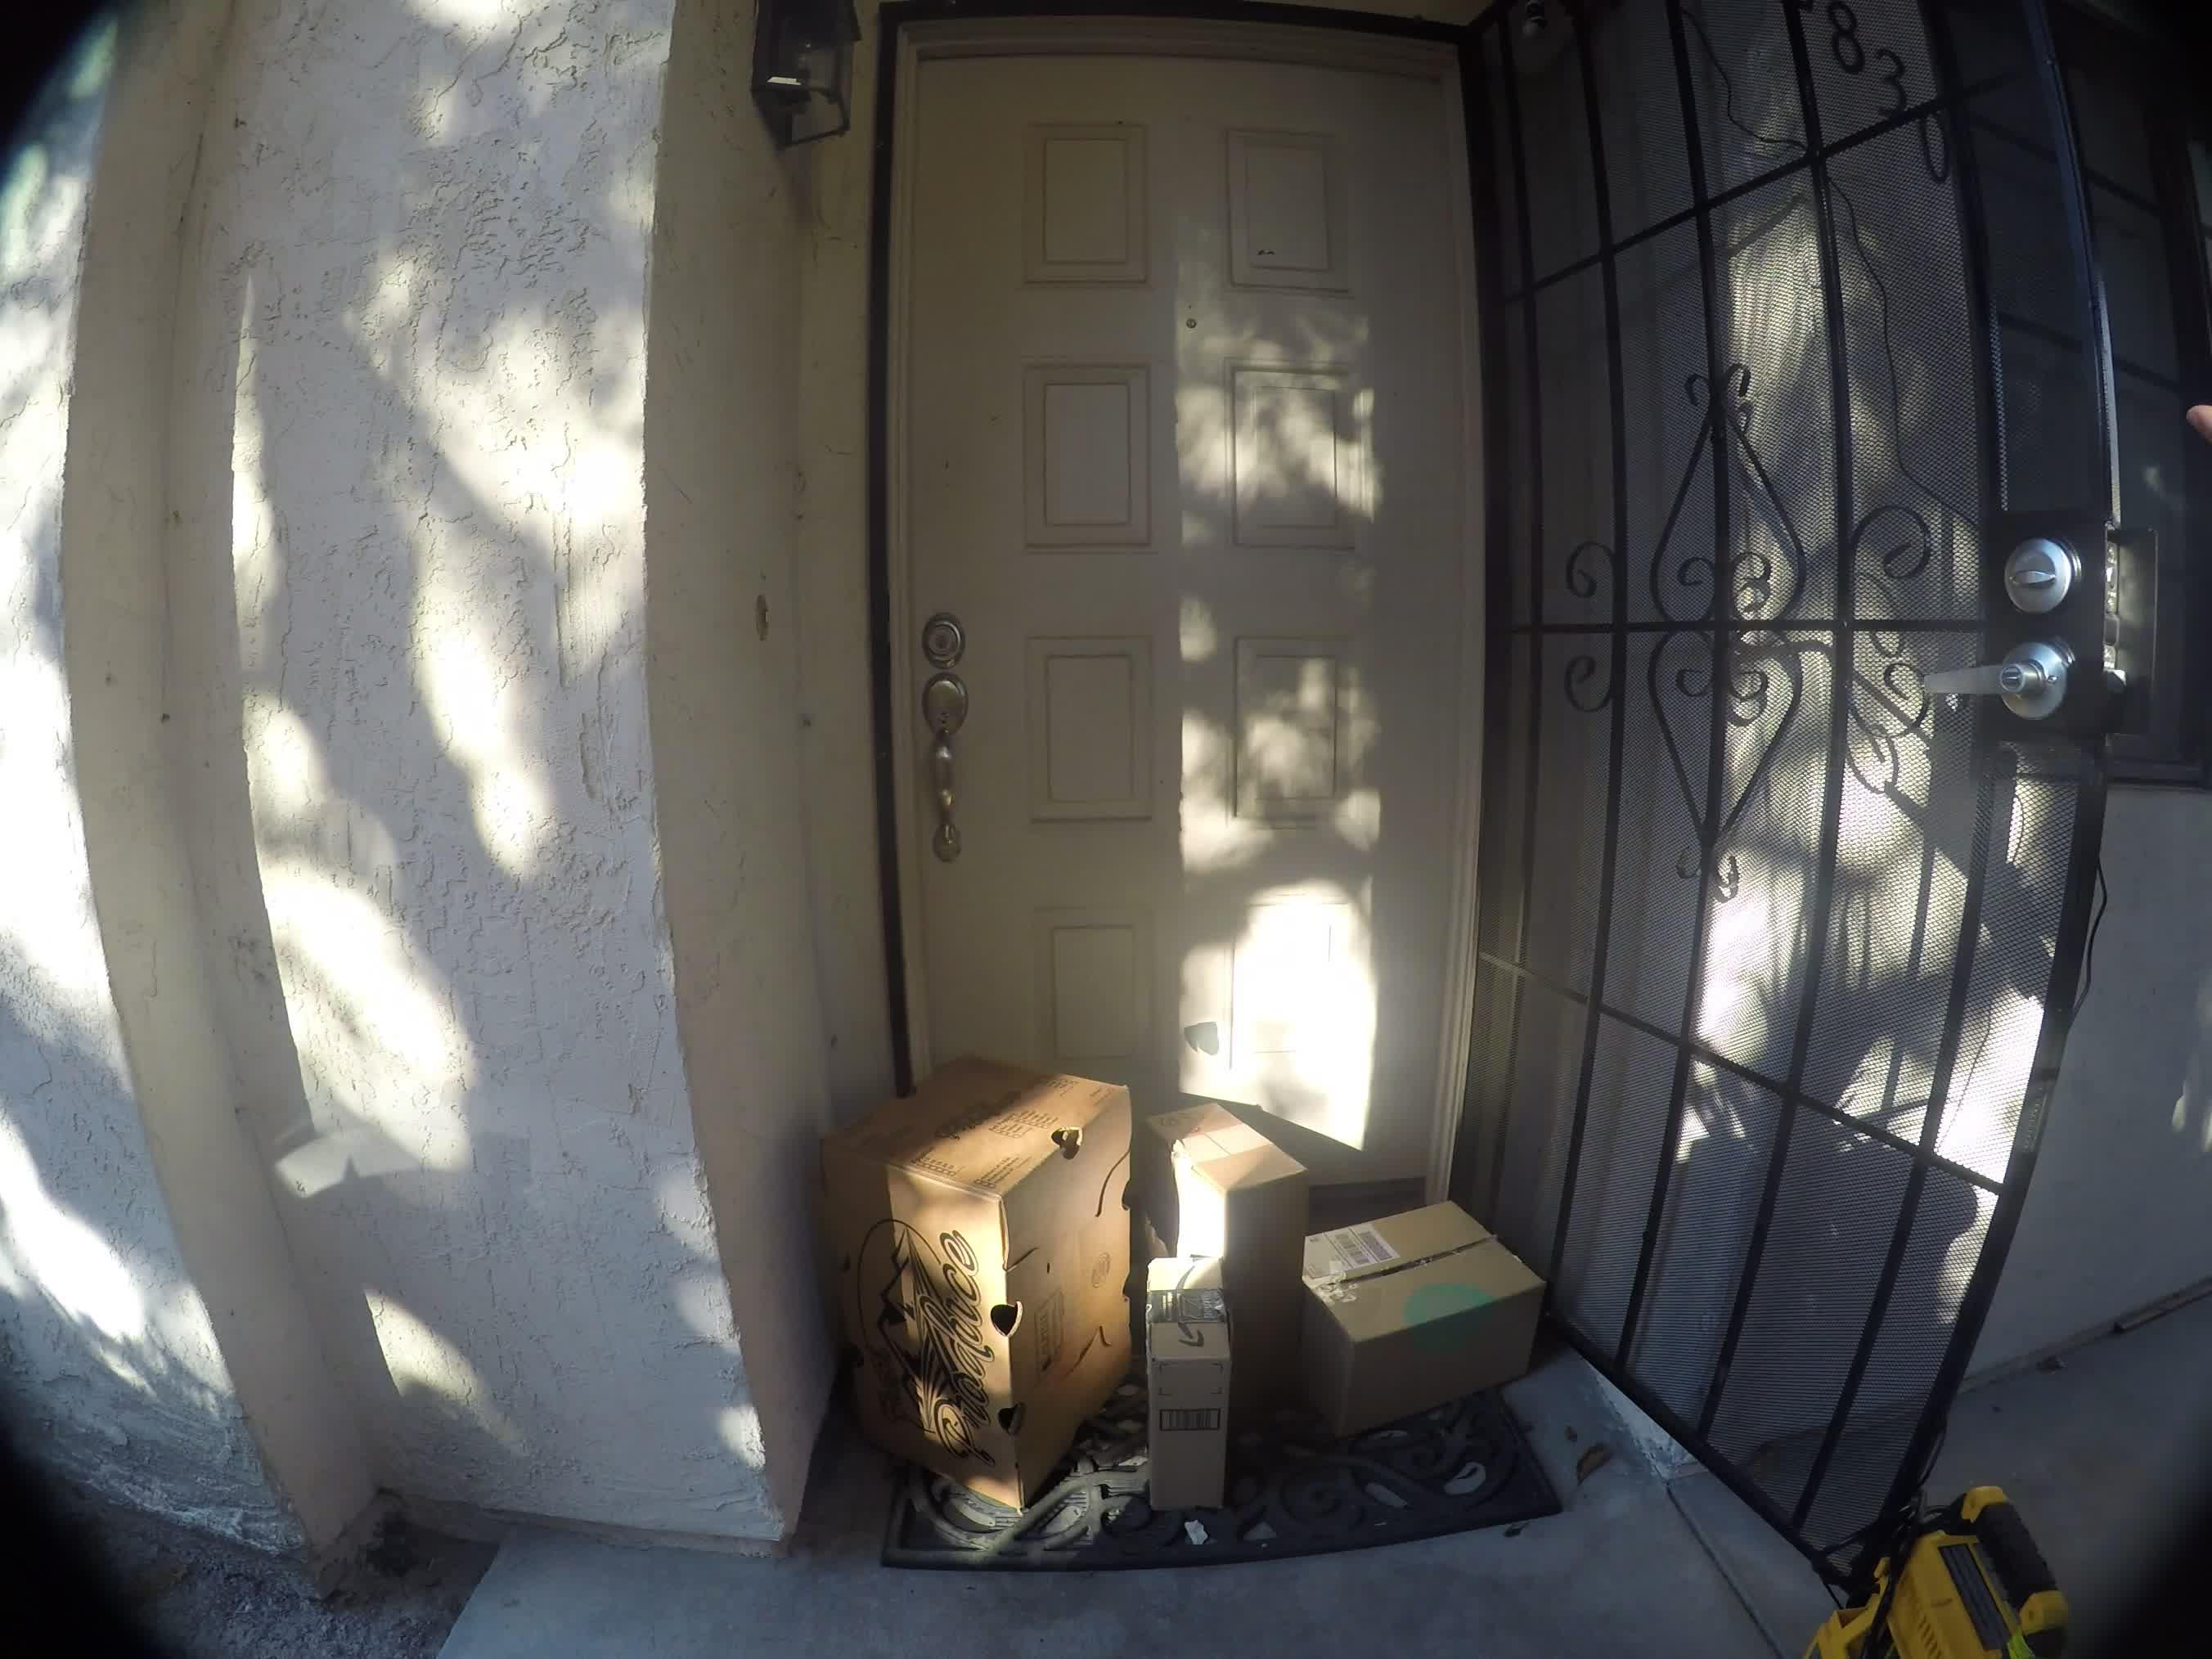box: (824, 1035, 1125, 1572), (1320, 1188, 1541, 1408), (1143, 1272, 1259, 1542), (1160, 1082, 1298, 1253)
